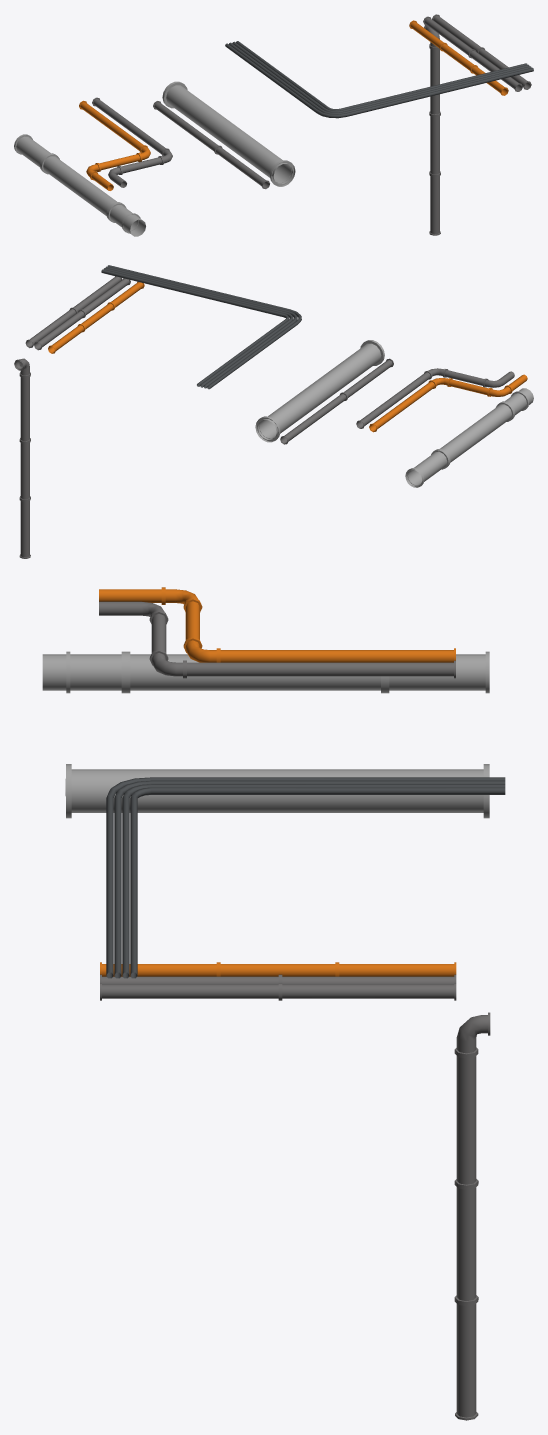
File: SM_H_Building_Tide_Bathhouse_05D_ATLAS.fbx
3 views of the same model, one above another, from view 1: azimuth 30°, elevation 25°; view 2: azimuth 150°, elevation 25°; view 3: azimuth 270°, elevation 25° (orthographic). The views are drawn at different scales.
Visible parts, largest first — view 1: SM_H_Building_Tide_Bathhouse_05D_ATLAS; view 2: SM_H_Building_Tide_Bathhouse_05D_ATLAS; view 3: SM_H_Building_Tide_Bathhouse_05D_ATLAS.
Boxes of the visible parts, left/top/right/bottom form: SM_H_Building_Tide_Bathhouse_05D_ATLAS: left=14, top=14, right=533, bottom=236; SM_H_Building_Tide_Bathhouse_05D_ATLAS: left=14, top=265, right=533, bottom=558; SM_H_Building_Tide_Bathhouse_05D_ATLAS: left=42, top=587, right=505, bottom=1420.
Size of the model in its own units: 1946 by 934 by 1000.
